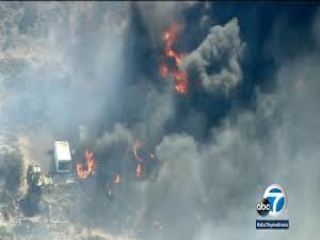fire: (159, 32, 195, 93), (132, 143, 152, 187), (77, 153, 98, 180)
smoke: (20, 15, 158, 124), (194, 9, 282, 126), (159, 134, 245, 214), (92, 123, 131, 166)
